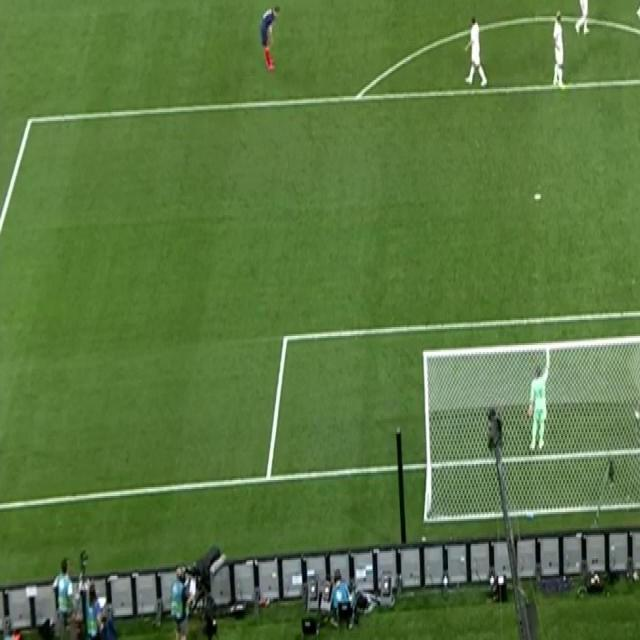player-white: (527, 343, 553, 453), (464, 14, 488, 92), (257, 1, 281, 76), (550, 6, 570, 95), (573, 0, 593, 41), (637, 0, 640, 68), (633, 0, 640, 22)
